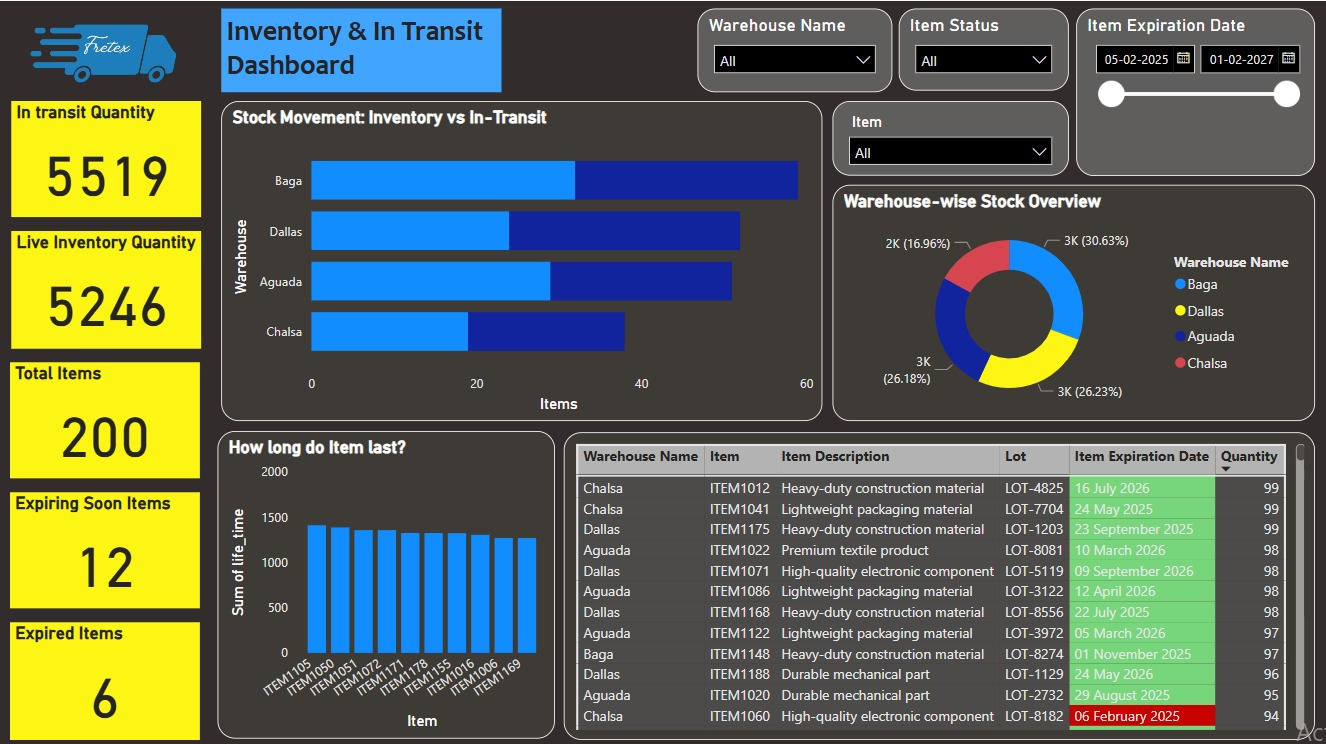

This screenshot's page, from the dashboard's own definition file:
{"tool":"powerbi","page":{"name":"Page 1","canvas":[1280,720],"ordinal":0},"visuals":[{"type":"slicer","title":"Warehouse Name","fields":{"Values":["iv.Warehouse Name"]},"box":[673,7.2,188.1,80.8],"z":0},{"type":"card","title":"In transit Quantity","fields":{"Values":["Sum(iv.Quantity)"]},"box":[10.9,96.5,183.3,112.2],"z":1000},{"type":"card","title":"Live Inventory Quantity","fields":{"Values":["Sum(iv.Quantity)"]},"box":[10.9,221.9,183.3,113.4],"z":2000},{"type":"slicer","title":"Item Status","fields":{"Values":["iv.Item Status"]},"box":[867.1,7.2,164,79.6],"z":3000},{"type":"slicer","fields":{"Values":["iv.Item"]},"box":[803.2,96.5,227.9,72.4],"z":4000},{"type":"card","title":"Total Items","fields":{"Values":["Count(iv.Item)"]},"box":[9.6,348.5,183.3,112.2],"z":5000},{"type":"card","title":"Expiring Soon Items","fields":{"Values":["Count(iv.Item)"]},"box":[9.6,474,183.3,112.2],"z":6000},{"type":"card","title":"Expired Items","fields":{"Values":["Count(iv.Item)"]},"box":[9.6,599.4,183.3,113.4],"z":7000},{"type":"columnChart","title":"How long do Item last?","fields":{"Y":["Sum(iv.life_time)"],"Category":["iv.Item"]},"box":[209.8,414.9,325.6,296.7],"z":8000},{"type":"slicer","title":"Item Expiration Date","fields":{"Values":["iv.Item Expiration Date"]},"box":[1038.4,7.2,230.4,161.6],"z":9000},{"type":"textbox","box":[213.5,7.2,270.2,80.8],"z":10000},{"type":"tableEx","fields":{"Values":["iv.Warehouse Name","iv.Item","iv.Item Description","iv.Lot","iv.Item Expiration Date","iv.Quantity"]},"box":[543.9,416.1,724.8,296.7],"z":11000},{"type":"barChart","title":"Stock Movement: Inventory vs In-Transit","fields":{"Category":["iv.Warehouse Name"],"Y":["CountNonNull(iv.Item)"],"Series":["iv.Item Status"]},"box":[213.5,96.5,580.1,308.7],"z":12000},{"type":"image","box":[6,0,193,96.5],"z":12002},{"type":"donutChart","title":"Warehouse-wise Stock Overview","fields":{"Category":["iv.Warehouse Name"],"Y":["Sum(iv.Quantity)"]},"box":[803.2,177.3,465.5,227.9],"z":12003}]}

Visuals, with their boxes in screenshot pixels (x1, y1, x2, y2), scaled from the page's 1280x720 canvas onto the 1326x744 screenshot:
"Warehouse Name" slicer: rect(697, 7, 892, 91)
"In transit Quantity" card: rect(11, 100, 201, 216)
"Live Inventory Quantity" card: rect(11, 229, 201, 346)
"Item Status" slicer: rect(898, 7, 1068, 90)
slicer - iv.Item: rect(832, 100, 1068, 175)
"Total Items" card: rect(10, 360, 200, 476)
"Expiring Soon Items" card: rect(10, 490, 200, 606)
"Expired Items" card: rect(10, 619, 200, 737)
"How long do Item last?" columnChart: rect(217, 429, 555, 735)
"Item Expiration Date" slicer: rect(1076, 7, 1314, 174)
textbox: rect(221, 7, 501, 91)
tableEx - iv.Warehouse Name x iv.Item: rect(563, 430, 1314, 737)
"Stock Movement: Inventory vs In-Transit" barChart: rect(221, 100, 822, 419)
image: rect(6, 0, 206, 100)
"Warehouse-wise Stock Overview" donutChart: rect(832, 183, 1314, 419)
